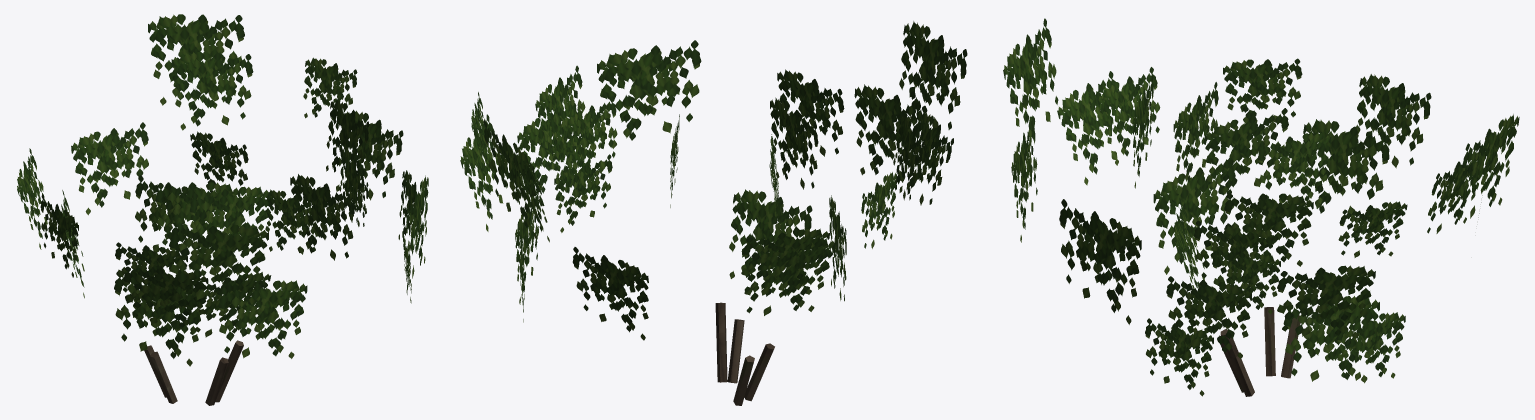
File: Bush_0.fbx
3 views of the same model, side by side, from view 1: azimuth 30°, elevation 25°; view 2: azimuth 150°, elevation 25°; view 3: azimuth 270°, elevation 25° (orthographic). The views are drawn at different scales.
Parts seen in each view (by area): view 1: Bush_0; view 2: Bush_0; view 3: Bush_0.
Part boxes in pixels (x1,y1,x2,y2): Bush_0: (17, 14, 428, 405); Bush_0: (460, 21, 967, 405); Bush_0: (1003, 18, 1519, 396).
Bounding box in the file's own units: 2.31 × 1.75 × 2.59.
